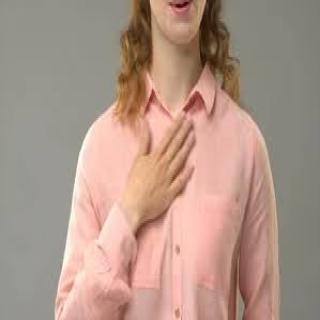Please: (130, 110, 199, 215)
